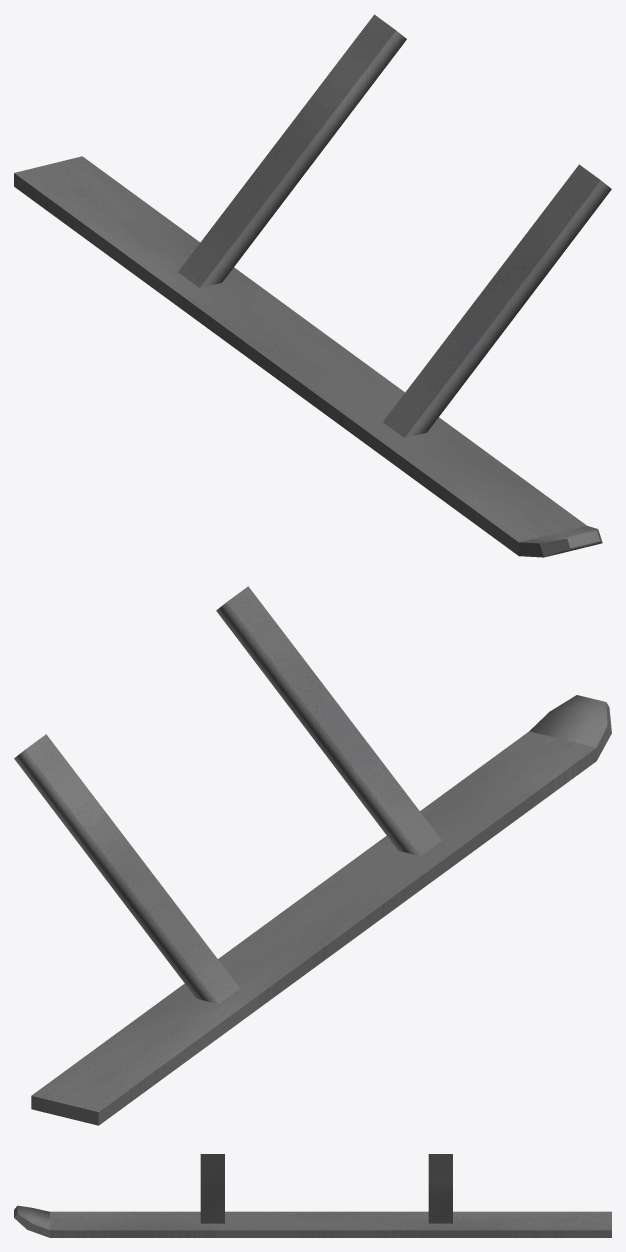
Rendered from LeftSkid.fbx.
The picture shows the model from 3 angles, top to bottom: view 1: azimuth 30°, elevation 25°; view 2: azimuth 150°, elevation 25°; view 3: azimuth 270°, elevation 25°; orthographic projection. The views are drawn at different scales.
Parts seen in each view (by area): view 1: LeftSkid; view 2: LeftSkid; view 3: LeftSkid.
Part boxes in pixels (x1,y1,x2,y2): LeftSkid: (14,14,611,557); LeftSkid: (14,586,611,1125); LeftSkid: (14,1154,611,1237).
Bounding box in the file's own units: 35.02 × 32.72 × 142.
